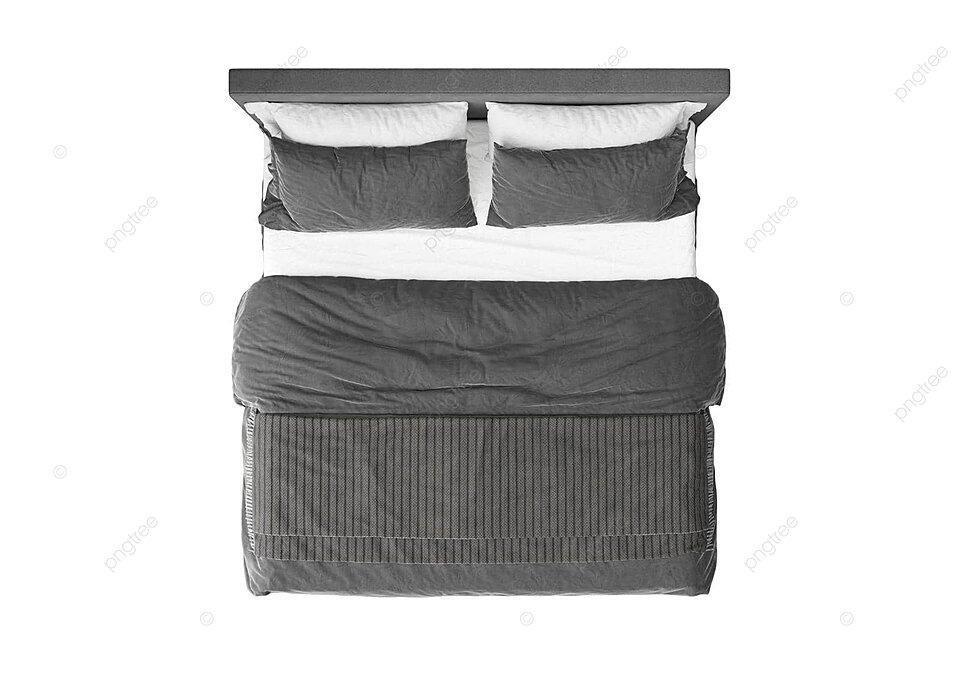Bed-Mattress: (224, 62, 733, 603)
